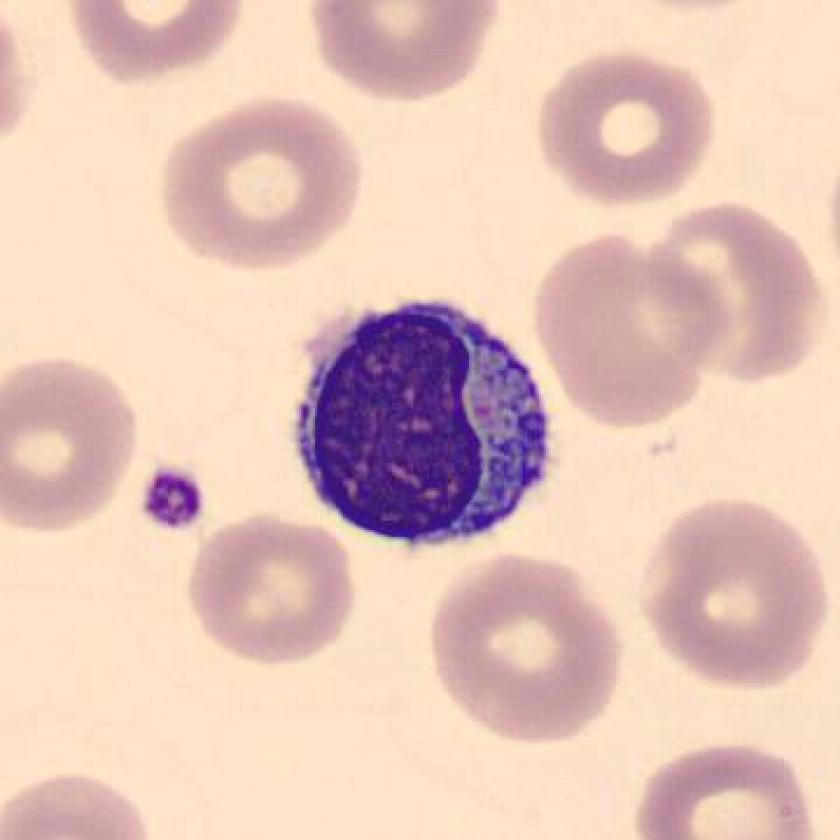lymphocyte: (274, 286, 566, 556)
platelets: (136, 465, 214, 530)
